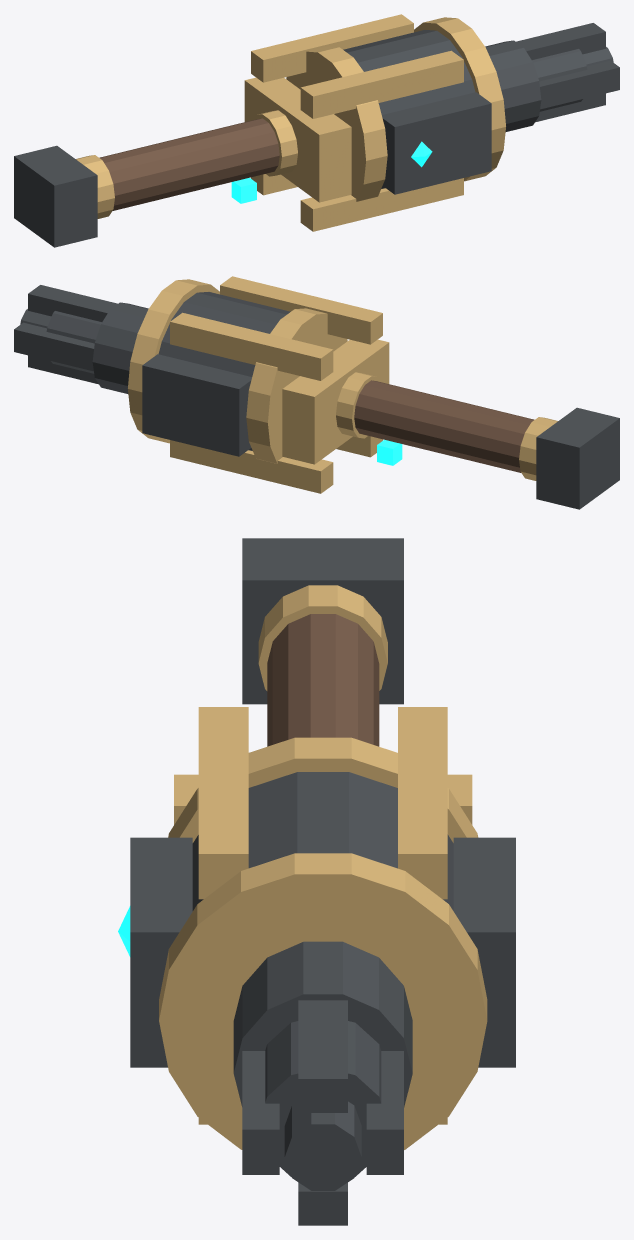
File: SM_MKG_SpikeDrill_A01.fbx
3 views of the same model, one above another, from view 1: azimuth 30°, elevation 25°; view 2: azimuth 150°, elevation 25°; view 3: azimuth 270°, elevation 25° (orthographic). The views are drawn at different scales.
Parts seen in each view (by area): view 1: Grip_Leather_ThickGnomeScale, Motor_DarkIron_SideHousingRight, Pommel_DarkIron_Counterweight, Guard_Brass_Block, Brace_Brass_TopRight, Motor_Brass_RearCollar, Motor_DarkIron_CylindricalCore, Brace_Brass_TopLeft, Brace_Brass_BottomRight, Motor_Brass_FrontCollar, DrillSpike_DarkIron_Base, DrillFlute_DarkIron_Right (+8 smaller); view 2: Grip_Leather_ThickGnomeScale, Motor_DarkIron_SideHousingLeft, Pommel_DarkIron_Counterweight, Guard_Brass_Block, Brace_Brass_TopLeft, Motor_Brass_RearCollar, Motor_DarkIron_CylindricalCore, Brace_Brass_TopRight, Brace_Brass_BottomLeft, Motor_Brass_FrontCollar, DrillSpike_DarkIron_Base, DrillFlute_DarkIron_Left (+8 smaller); view 3: Motor_Brass_FrontCollar, Pommel_DarkIron_Counterweight, DrillSpike_DarkIron_Base, Motor_DarkIron_CylindricalCore, Grip_Leather_ThickGnomeScale, Motor_DarkIron_SideHousingRight, Motor_DarkIron_SideHousingLeft, Brace_Brass_TopRight, Brace_Brass_TopLeft, Motor_Brass_RearCollar, DrillSpike_DarkIron_MidTaper, DrillFlute_DarkIron_Top (+6 smaller).
Part boxes in pixels (box(x1,y1,x2,y2)): Grip_Leather_ThickGnomeScale: box(99, 118, 279, 210); Motor_DarkIron_SideHousingRight: box(382, 92, 491, 194); Pommel_DarkIron_Counterweight: box(14, 145, 97, 247); Guard_Brass_Block: box(244, 77, 351, 202); Brace_Brass_TopRight: box(300, 50, 463, 118); Motor_Brass_RearCollar: box(286, 46, 387, 201); Motor_DarkIron_CylindricalCore: box(343, 30, 475, 188); Brace_Brass_TopLeft: box(251, 14, 413, 82); Brace_Brass_BottomRight: box(300, 178, 463, 231); Motor_Brass_FrontCollar: box(414, 17, 505, 181); DrillSpike_DarkIron_Base: box(485, 40, 541, 131); DrillFlute_DarkIron_Right: box(539, 60, 619, 109); Grip_Leather_ThickGnomeScale: box(354, 380, 534, 472); Motor_DarkIron_SideHousingLeft: box(142, 354, 251, 456); Pommel_DarkIron_Counterweight: box(536, 407, 619, 509); Guard_Brass_Block: box(282, 339, 389, 464); Brace_Brass_TopLeft: box(170, 312, 333, 380); Motor_Brass_RearCollar: box(246, 308, 347, 463); Motor_DarkIron_CylindricalCore: box(158, 292, 290, 450); Brace_Brass_TopRight: box(220, 276, 382, 344); Brace_Brass_BottomLeft: box(170, 440, 333, 493); Motor_Brass_FrontCollar: box(128, 279, 219, 443); DrillSpike_DarkIron_Base: box(92, 302, 148, 393); DrillFlute_DarkIron_Left: box(14, 322, 94, 371); Motor_Brass_FrontCollar: box(159, 853, 487, 1149); Pommel_DarkIron_Counterweight: box(242, 538, 403, 704); DrillSpike_DarkIron_Base: box(233, 941, 412, 1107); Motor_DarkIron_CylindricalCore: box(192, 772, 453, 910); Grip_Leather_ThickGnomeScale: box(267, 614, 379, 746); Motor_DarkIron_SideHousingRight: box(130, 837, 192, 1067); Motor_DarkIron_SideHousingLeft: box(453, 837, 515, 1067); Brace_Brass_TopRight: box(198, 707, 248, 899); Brace_Brass_TopLeft: box(398, 707, 447, 899); Motor_Brass_RearCollar: box(168, 737, 478, 842); DrillSpike_DarkIron_MidTaper: box(265, 1021, 381, 1176); DrillFlute_DarkIron_Top: box(298, 1000, 347, 1112).
Size of what is drawn, in the model's own units: 3200 by 10600 by 2600.
